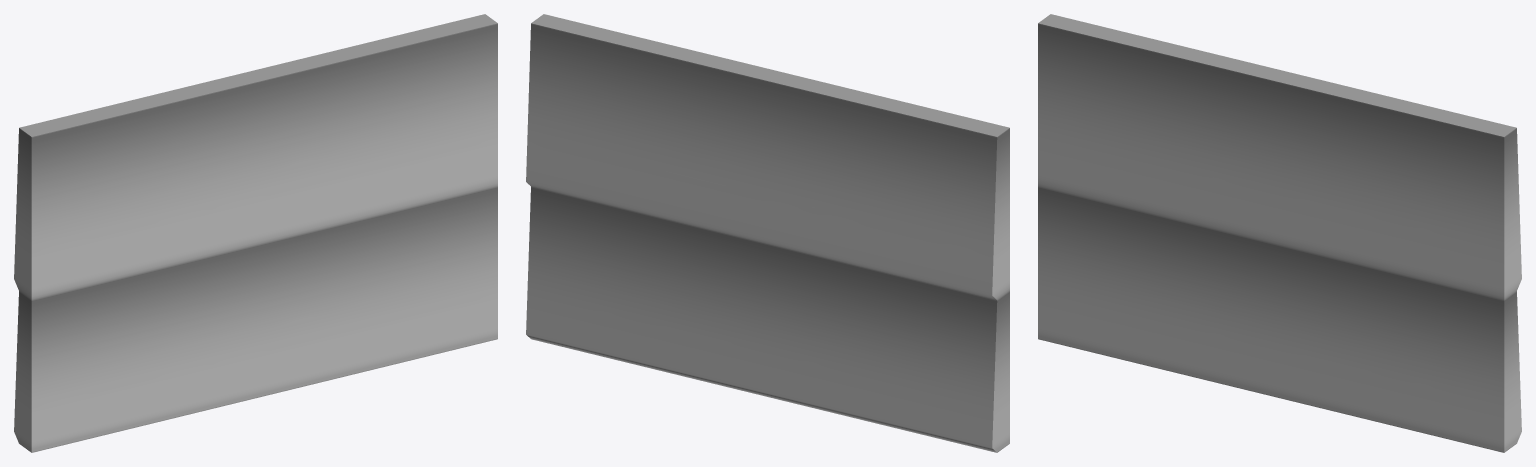
The model's file is Wall Exterior Extension.fbx.
The picture shows the model from 3 angles, left to right: view 1: azimuth 30°, elevation 25°; view 2: azimuth 150°, elevation 25°; view 3: azimuth 330°, elevation 25°; orthographic projection.
Visible parts, largest first — view 1: Wall_Exterior_Extension; view 2: Wall_Exterior_Extension; view 3: Wall_Exterior_Extension.
Part boxes in pixels (<box>): Wall_Exterior_Extension: <box>14,14,497,452</box>; Wall_Exterior_Extension: <box>526,14,1009,452</box>; Wall_Exterior_Extension: <box>1038,14,1521,452</box>.
Size of the model in its own units: 1 by 0.6475 by 0.066.
